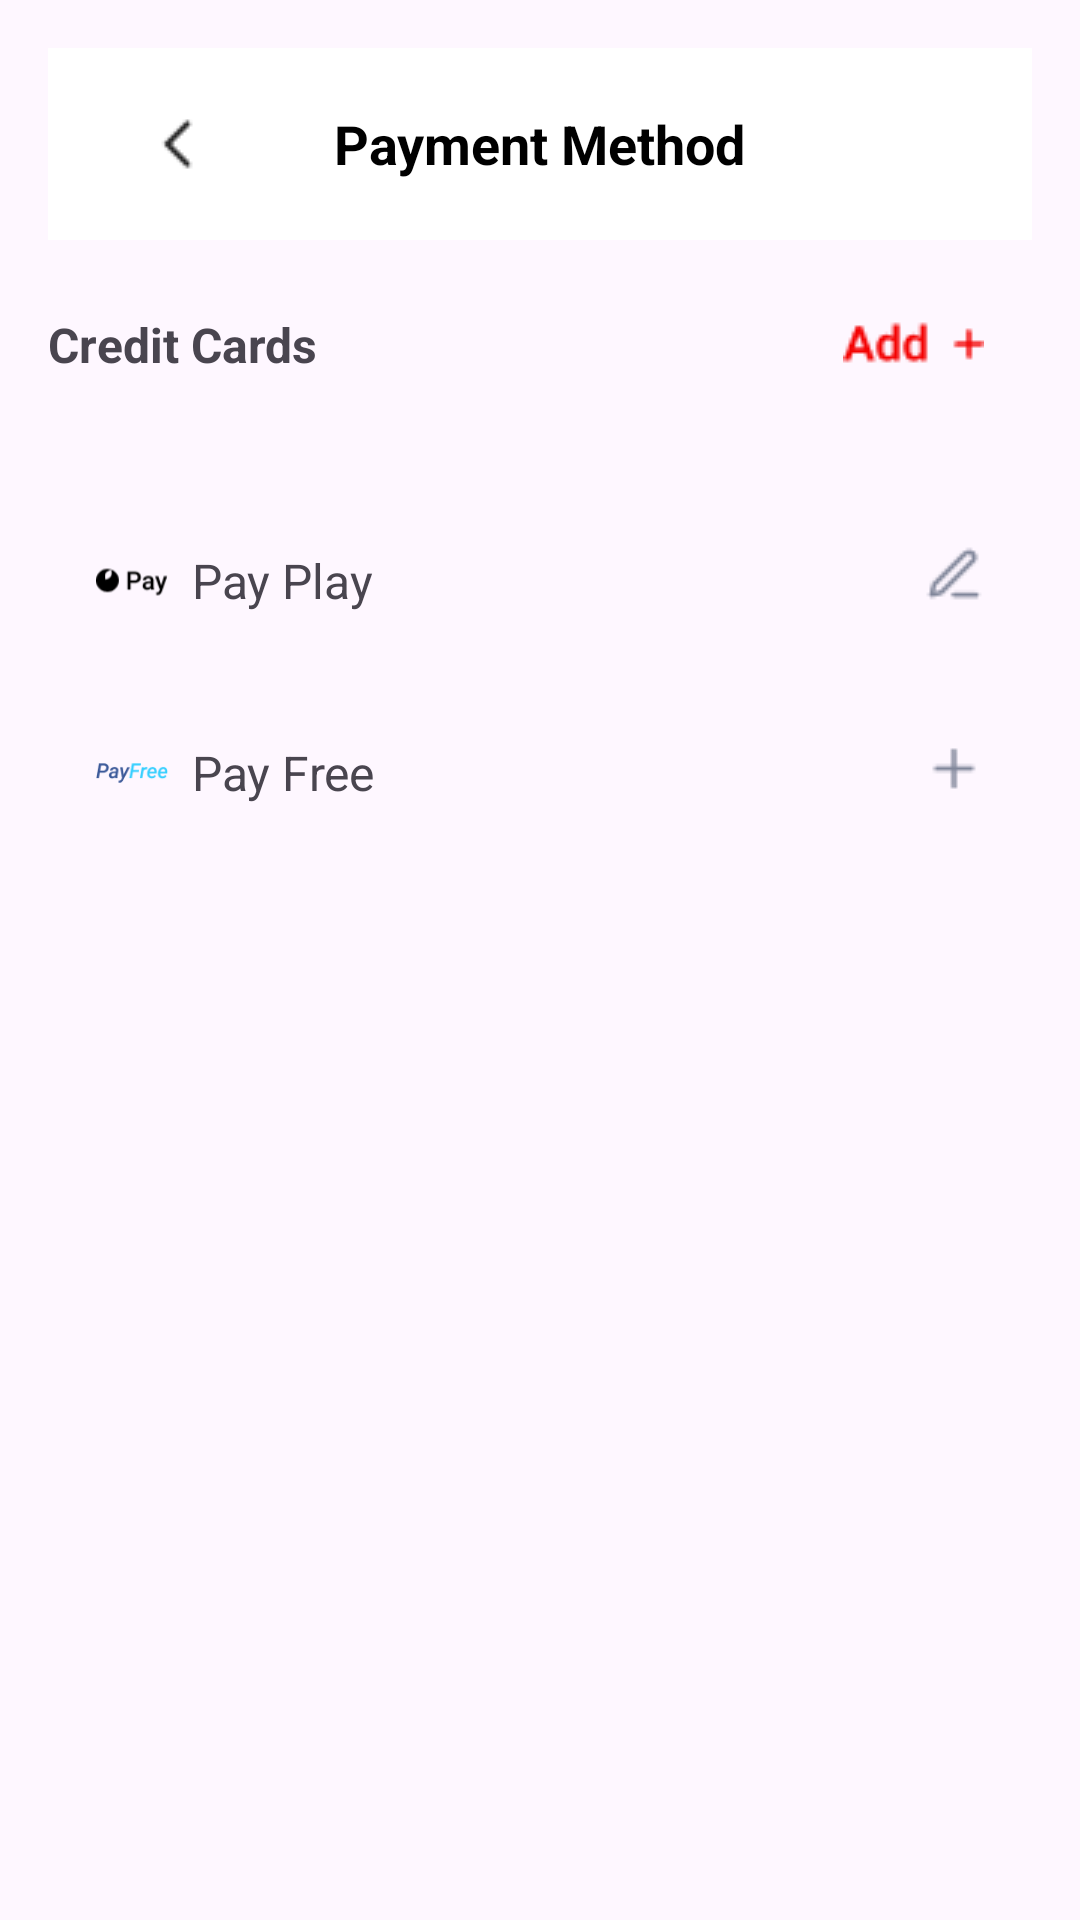

Where icons sit on this 1080w x 1920h app screen, as (x1, y1, x2, y2):
Add Pay Free: (933, 748, 975, 789)
Back: (163, 119, 192, 169)
Edit: (928, 548, 979, 599)
